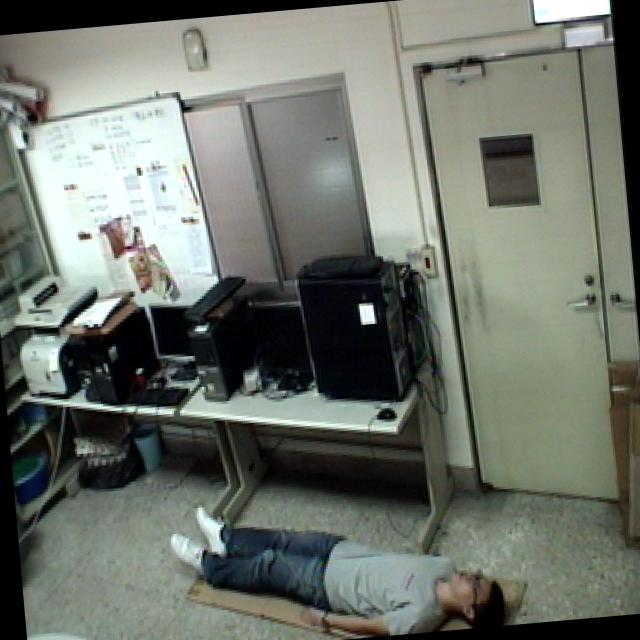lie: (161, 467, 515, 640)
